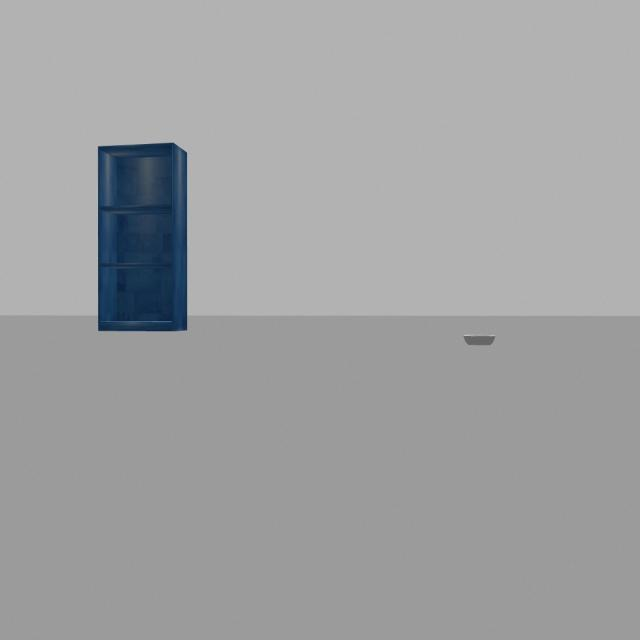bowl: (454, 317, 505, 360)
shelf: (89, 122, 200, 354)
